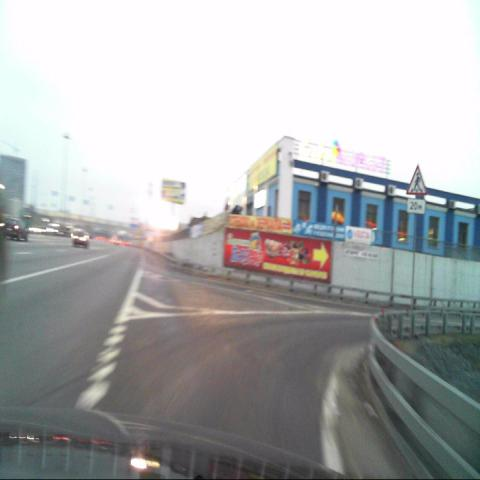1_22: (406, 163, 427, 194)
8_1_1: (406, 198, 425, 214)
